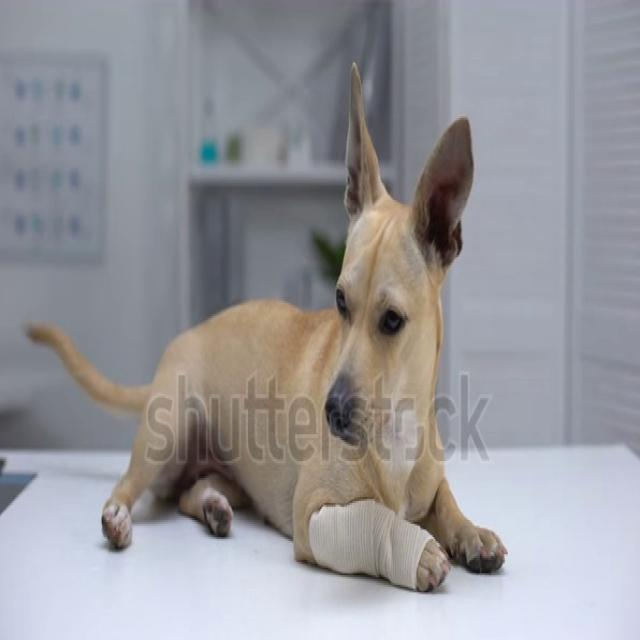injured-animals: (24, 57, 510, 598)
